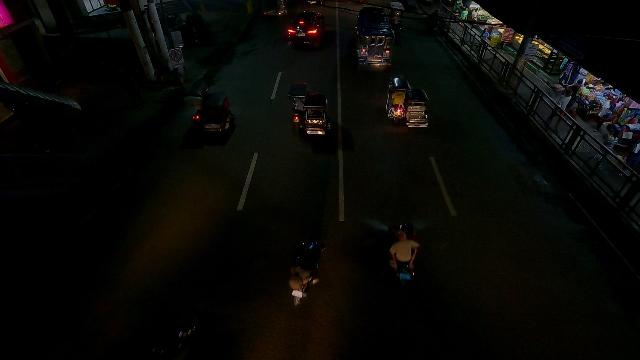car: (285, 10, 322, 49)
jeepney: (355, 4, 393, 68)
motorcycle: (386, 223, 420, 292), (289, 255, 323, 305)
